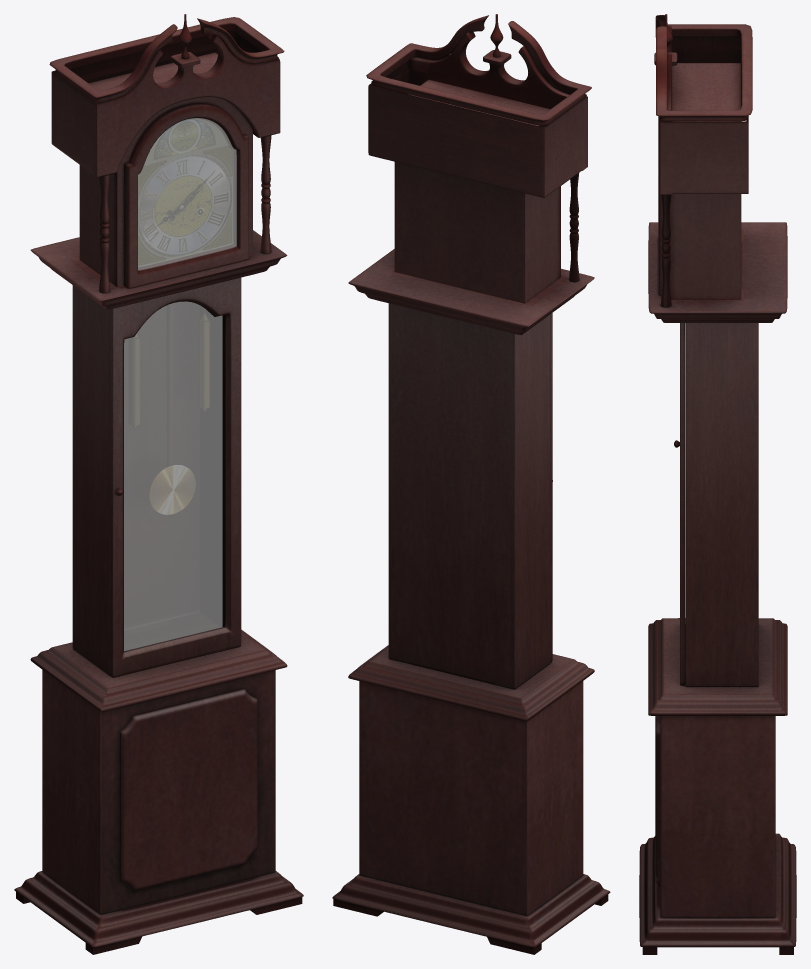
The model's file is clock-grandfather.fbx.
3 renders of one model, left to right at view 1: azimuth 30°, elevation 25°; view 2: azimuth 150°, elevation 25°; view 3: azimuth 270°, elevation 25°, orthographic. The views are drawn at different scales.
Parts seen in each view (by area): view 1: 10412_Grandfather_Clock_v1_SG; view 2: 10412_Grandfather_Clock_v1_SG; view 3: 10412_Grandfather_Clock_v1_SG.
Boxes of the visible parts, x1=… form: 10412_Grandfather_Clock_v1_SG: x1=14, y1=14, x2=303, y2=954; 10412_Grandfather_Clock_v1_SG: x1=332, y1=14, x2=610, y2=954; 10412_Grandfather_Clock_v1_SG: x1=639, y1=14, x2=796, y2=954.
Size of the model in its own units: 4211 by 17233 by 2756.
